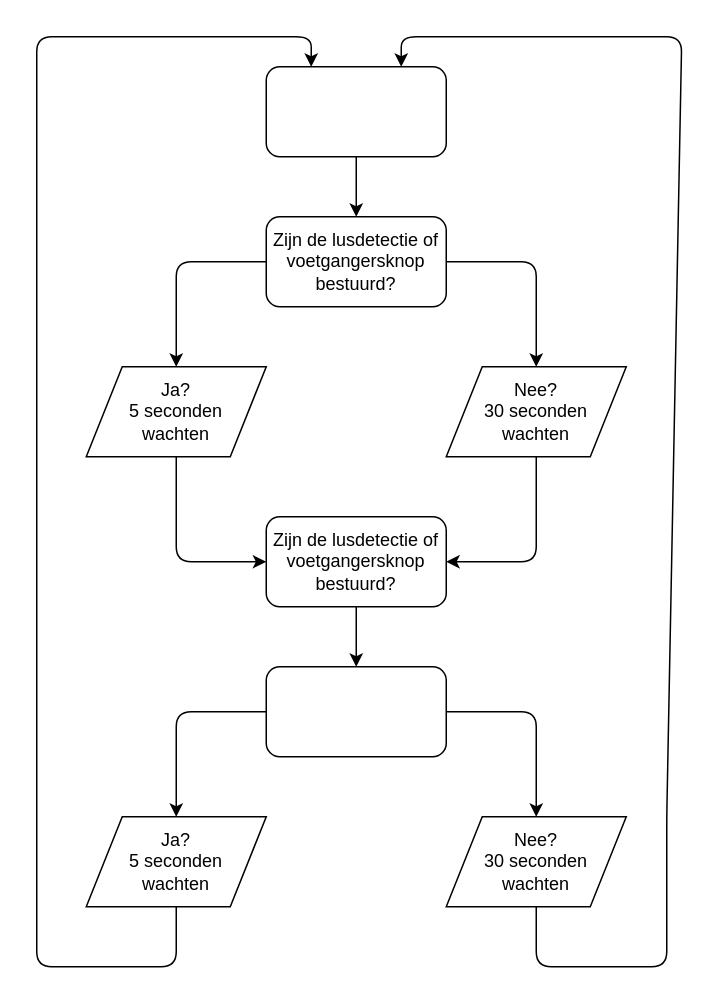
Some shapes in this 720 by 1005 pixel diagram are drawn without their labels. Each missing label, with the box of its shape:
Noord/Zuid Groen Oost/West Rood: (265, 65, 446, 157)
Noord/Zuid Rood Oost/West Groen: (265, 665, 446, 757)
